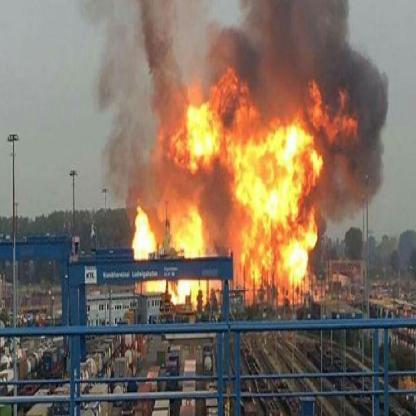fire: (166, 60, 362, 308), (125, 200, 167, 298)
